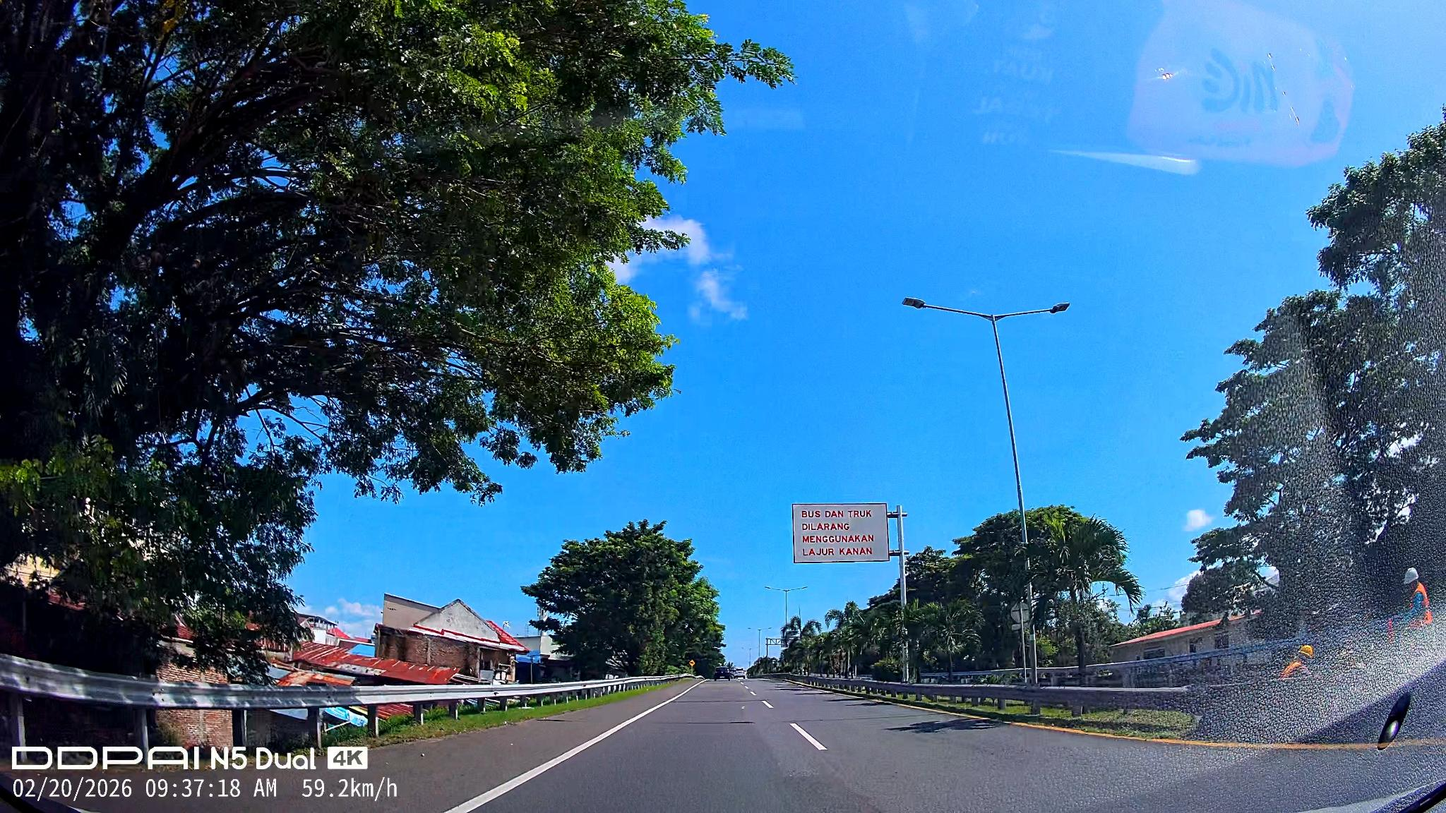rambu_teks: (792, 502, 891, 564)
